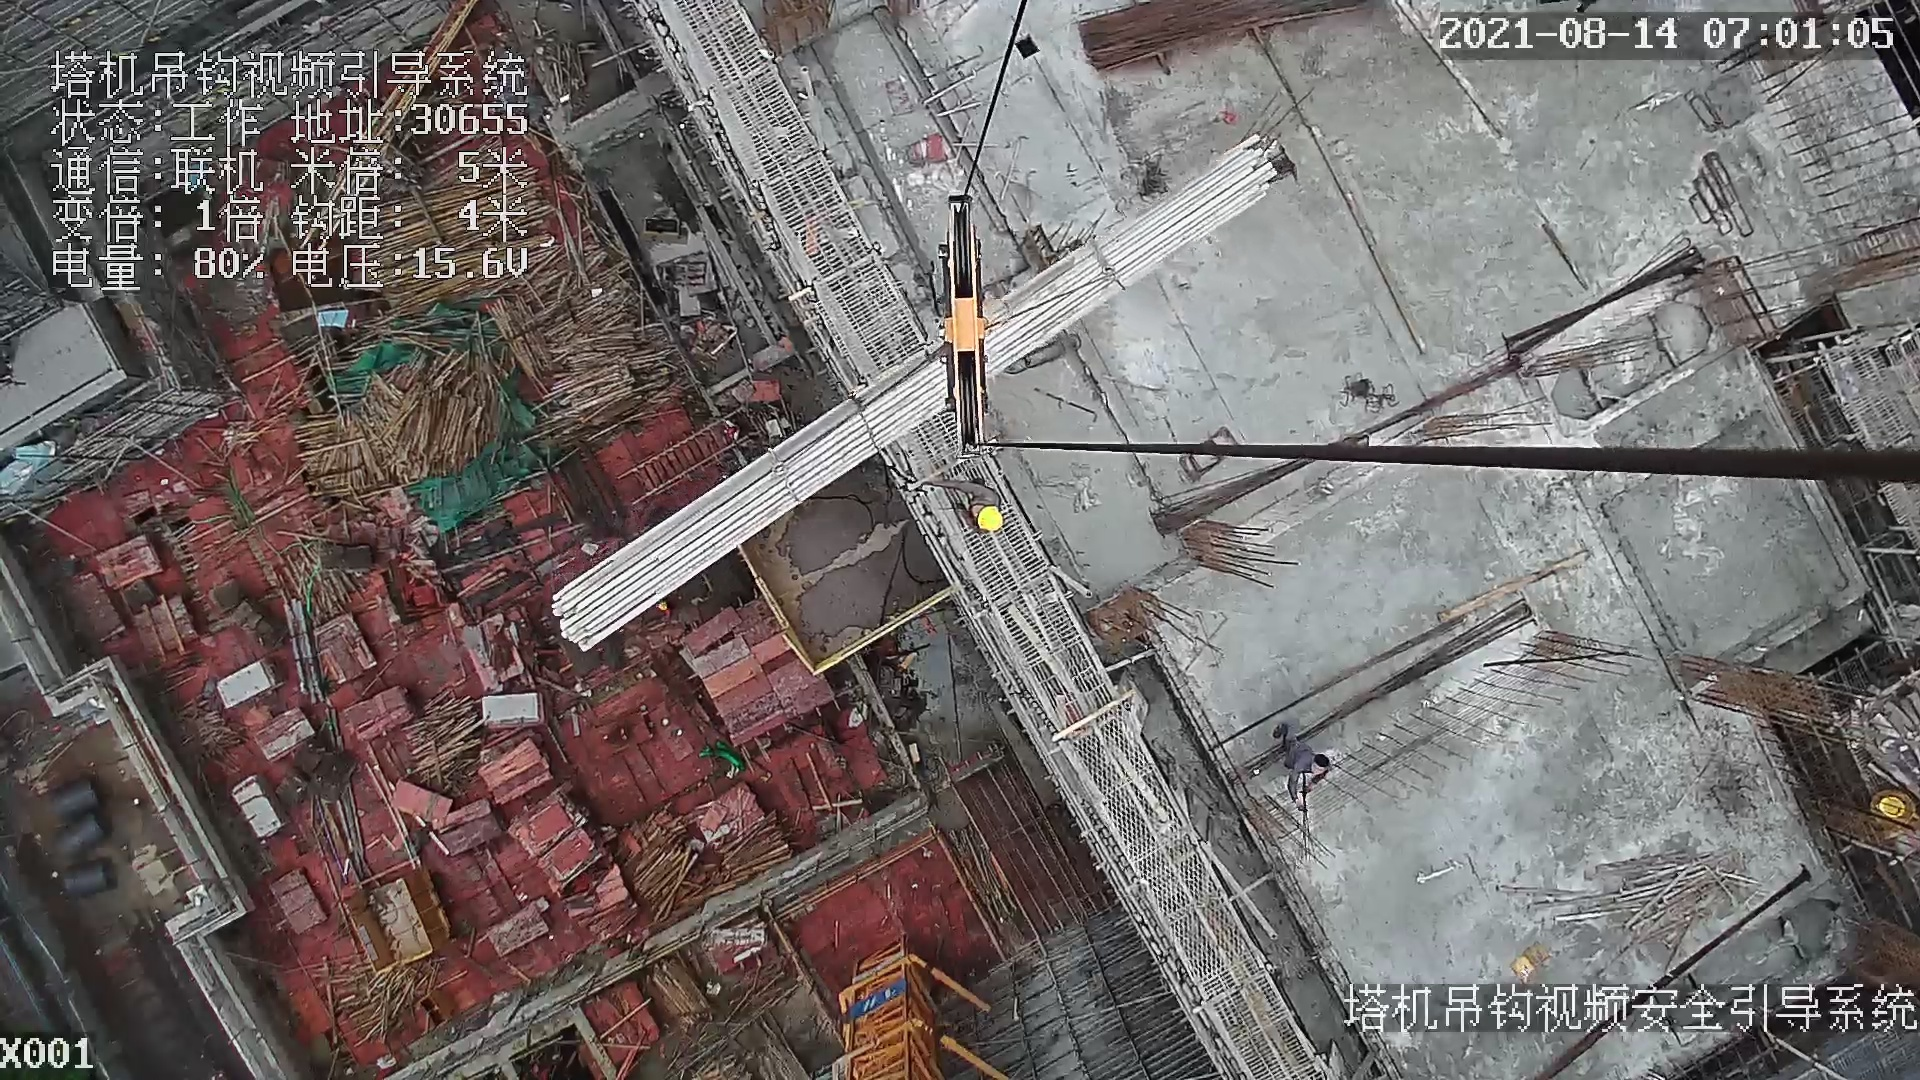helmet: (973, 500, 1010, 534)
hook: (922, 196, 1014, 451)
person: (927, 473, 1009, 531), (1283, 717, 1328, 821)
